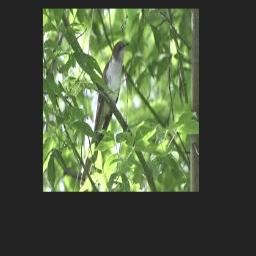Cuckoo: (79, 41, 129, 189)
